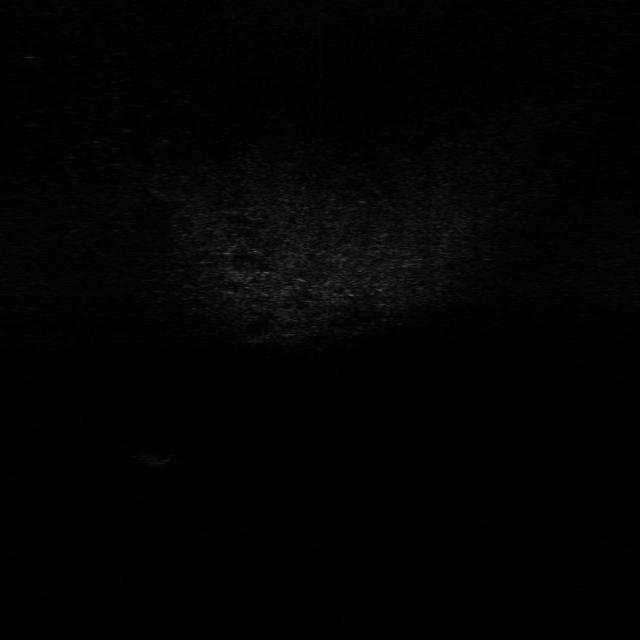cube: (137, 441, 179, 468)
